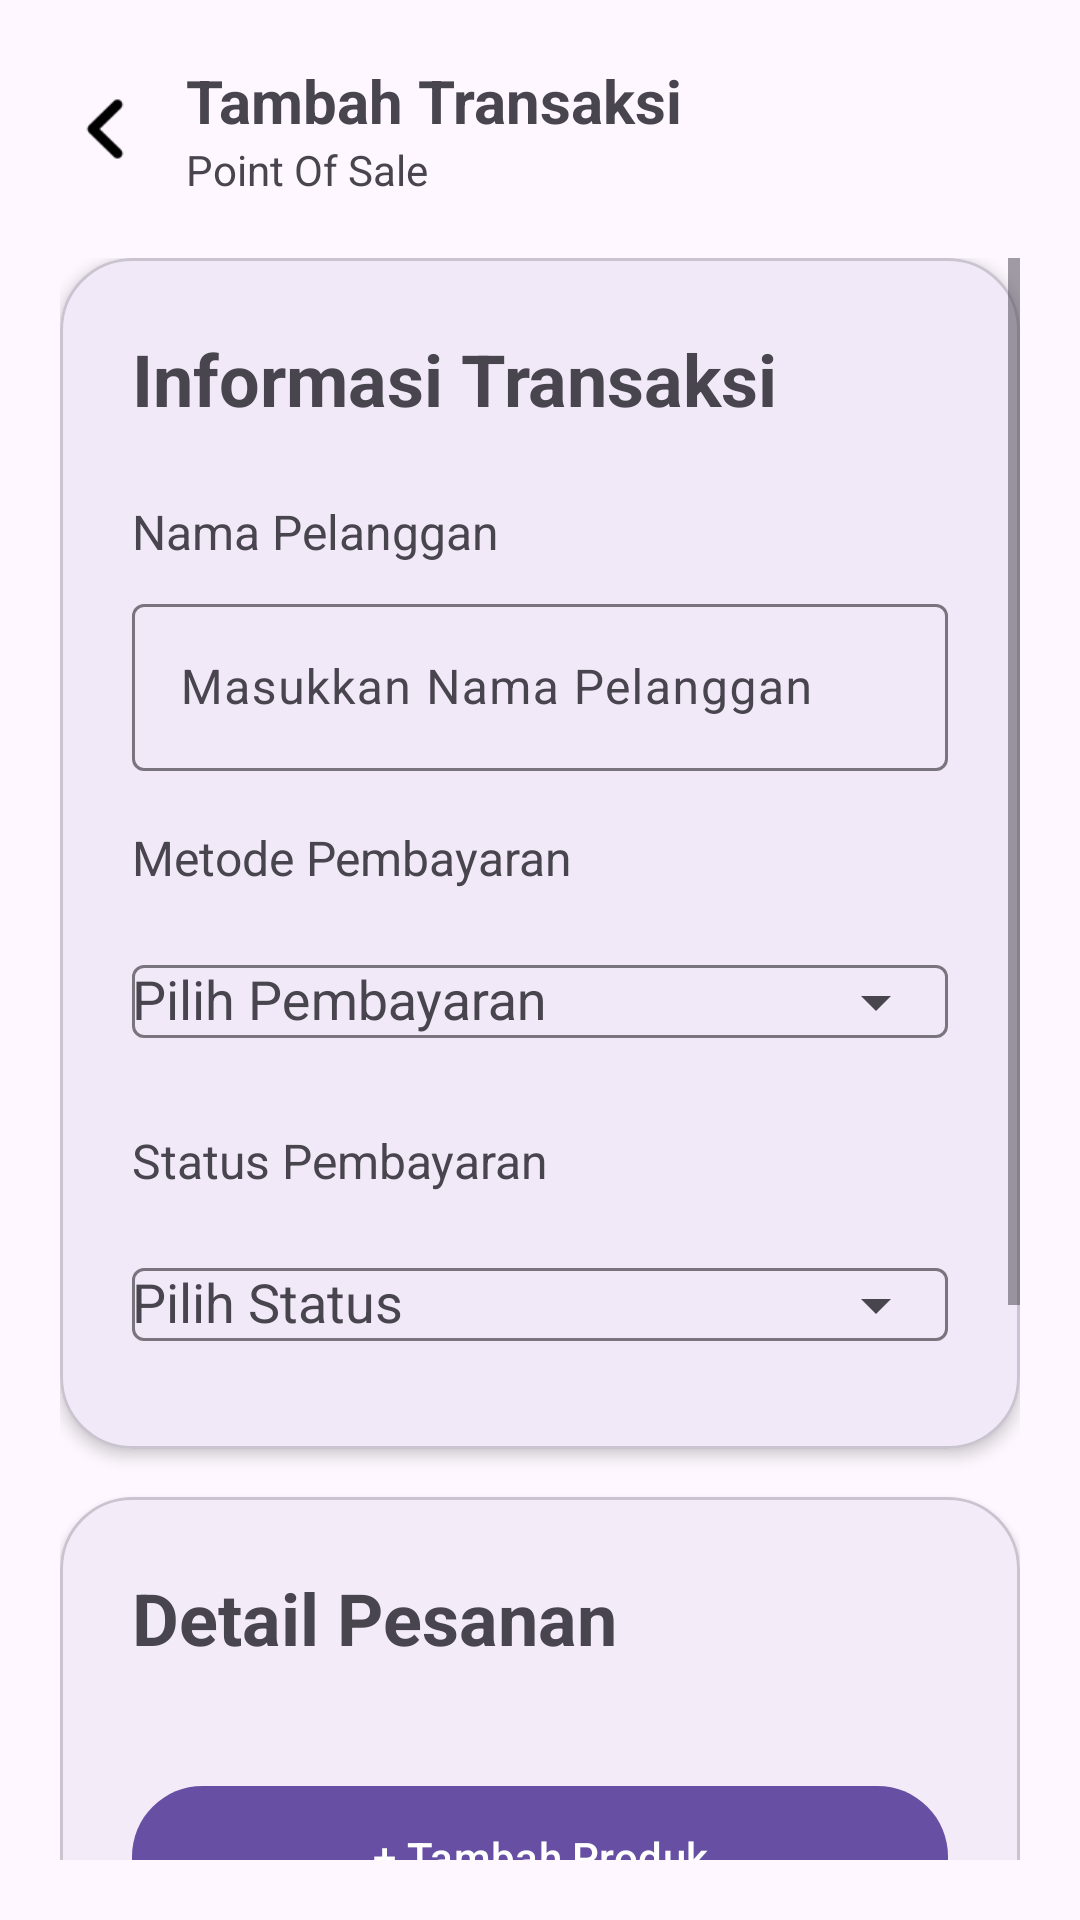

Icon bounding boxes for this 1080 x 1920 phone screenshot, format (x1, y1, x2, y2):
kembali: (86, 99, 124, 159)
